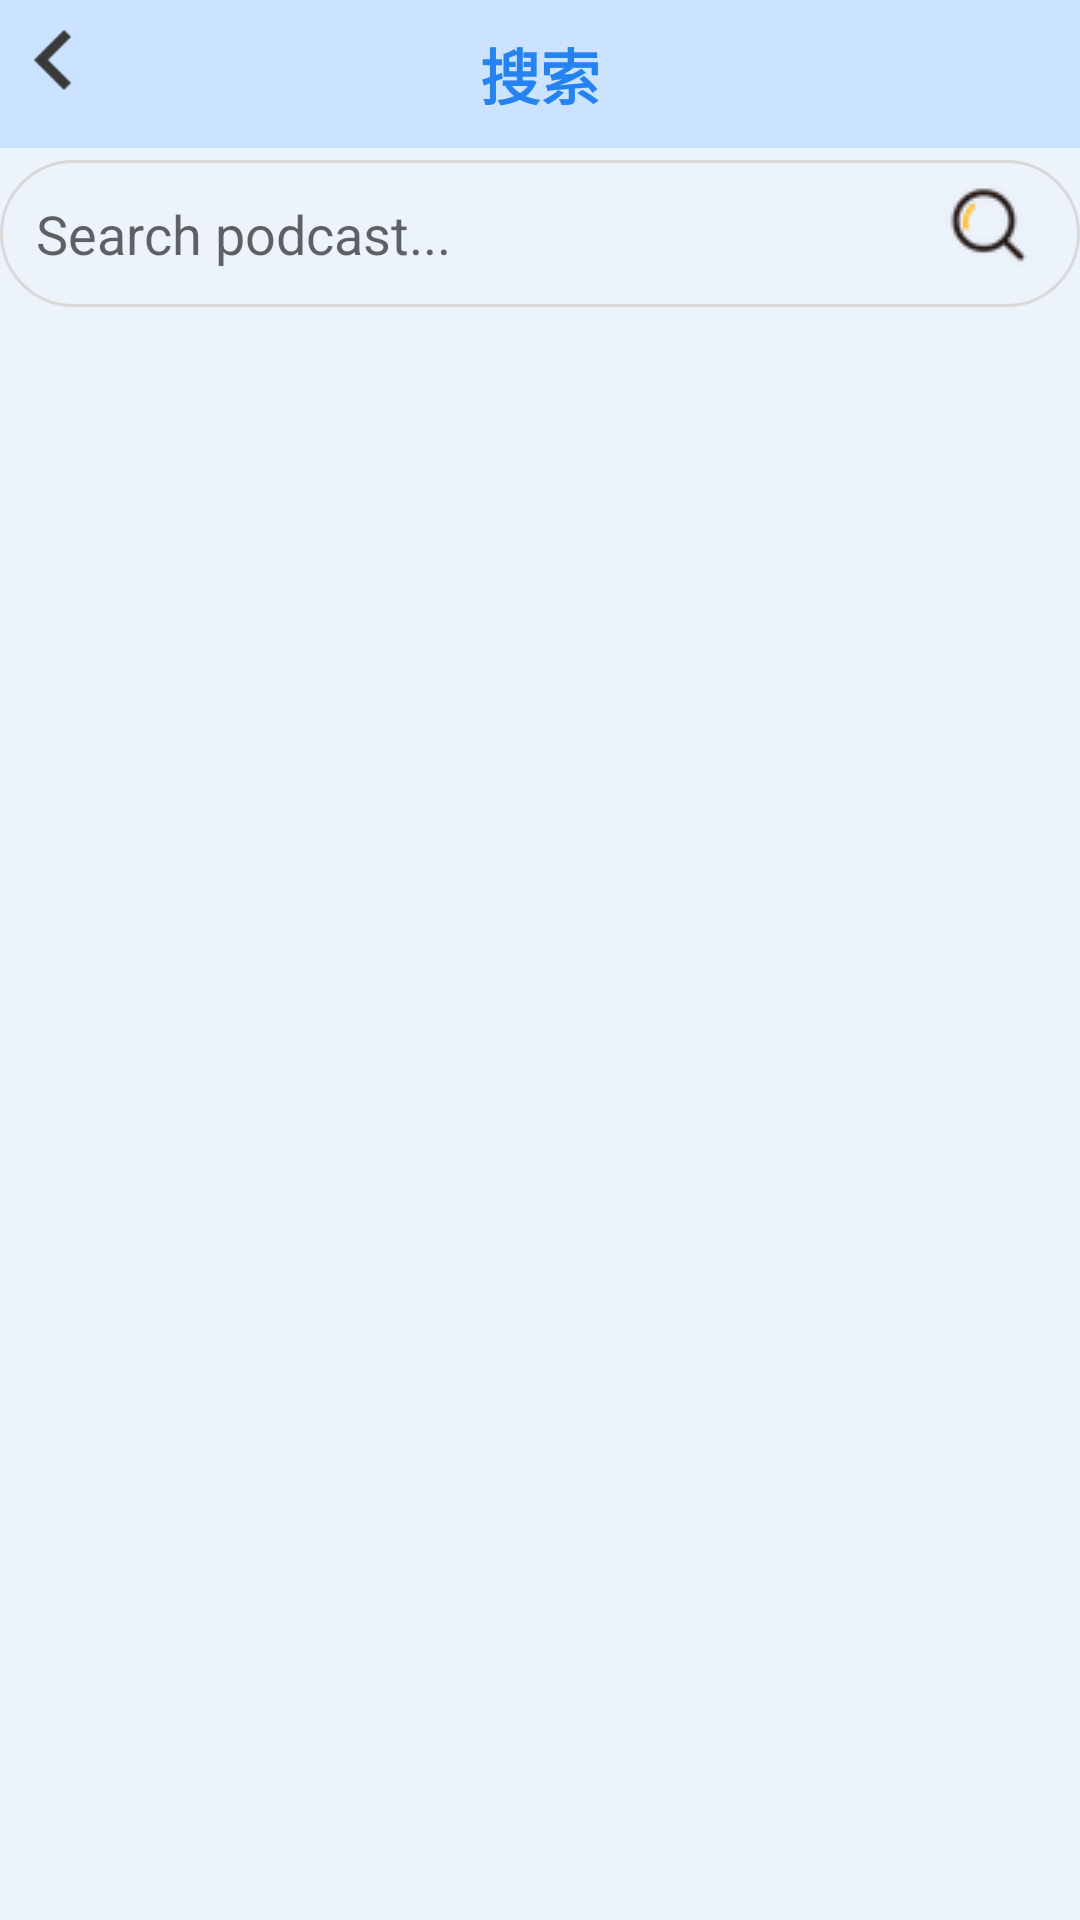

Icon bounding boxes for this 1080w x 1920h phone screenshot, format (x1, y1, x2, y2):
backicon: (34, 30, 71, 90)
